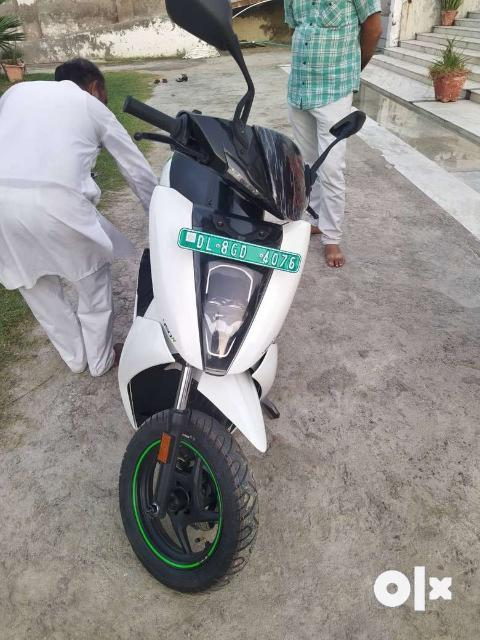Indian_Number_Plate: (179, 229, 303, 273)
